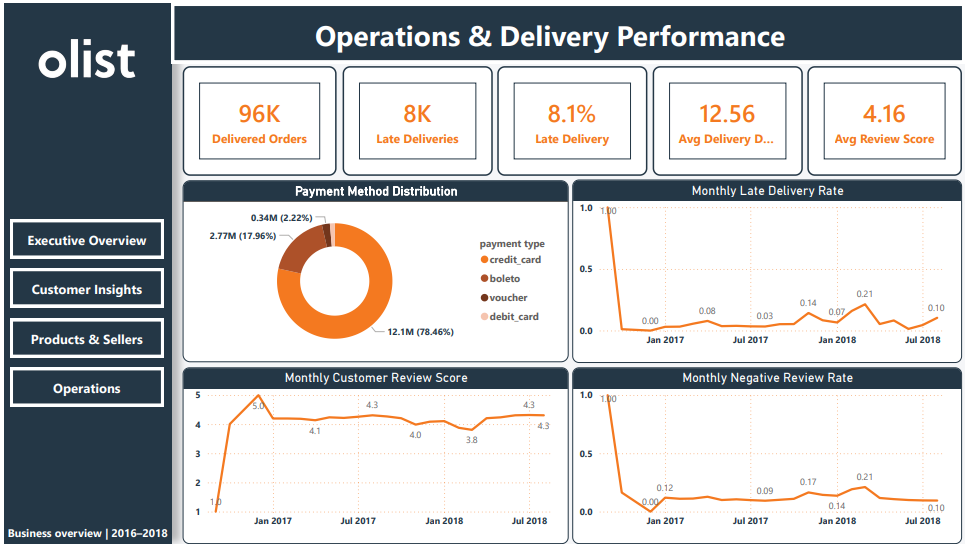

The page's visual inventory and layout, read from the dashboard file:
{"tool":"powerbi","page":{"name":"Operations & Delivery Performance","canvas":[1280,720],"ordinal":3},"visuals":[{"type":"shape","box":[0,0,223.3,720],"z":0},{"type":"shape","box":[223.3,0,1056.7,80],"z":1000},{"type":"image","box":[23.3,0,175,146.7],"z":2000},{"type":"textbox","box":[175,11.7,1105,68.3],"z":3000},{"type":"textbox","box":[0,689.8,237.3,30.8],"z":4000},{"type":"actionButton","box":[8.3,288.3,205,51.7],"z":5000},{"type":"actionButton","box":[8.3,353.3,205,51.7],"z":6000},{"type":"actionButton","box":[8.3,420,205,51.7],"z":7000},{"type":"actionButton","box":[8.3,485,205,51.7],"z":8000},{"type":"cardVisual","fields":{"Data":["Measure Table.Total Delivered Orders"]},"box":[237.6,83.5,205.9,146.9],"z":9000},{"type":"cardVisual","fields":{"Data":["Measure Table.Total Late Deliveries"]},"box":[450.7,83.5,200.1,146.9],"z":10000},{"type":"cardVisual","fields":{"Data":["Measure Table.Average Delivery Days"]},"box":[863.9,83.5,200.1,146.9],"z":11000},{"type":"cardVisual","fields":{"Data":["Measure Table.Late Delivery Rate"]},"box":[656.6,83.5,200.1,146.9],"z":12000},{"type":"cardVisual","fields":{"Data":["Measure Table.Average Review Score"]},"box":[1069.8,83.5,205.9,146.9],"z":13000},{"type":"donutChart","title":"Payment Method Distribution","fields":{"Category":["analytics payment_analytics.payment_type"],"Y":["Sum(analytics payment_analytics.total_payment_value)"]},"box":[237.6,236.1,514,241.9],"z":13001},{"type":"lineChart","title":"Monthly Late Delivery Rate","fields":{"Category":["analytics delivery_review_analytics.sales_month"],"Y":["Measure Table.Monthly Late Delivery Rate"]},"box":[757.3,234.7,518.3,244.8],"z":13002},{"type":"lineChart","title":"Monthly Customer Review Score","fields":{"Category":["analytics delivery_review_analytics.sales_month"],"Y":["Measure Table.Monthly Average Review Score"]},"box":[237.6,485.2,514,234.7],"z":13003},{"type":"lineChart","title":"Monthly Negative Review Rate","fields":{"Category":["analytics delivery_review_analytics.sales_month"],"Y":["Measure Table.Monthly Negative Review Rate"]},"box":[757.3,485.2,518.3,234.7],"z":13004}]}

Visuals, with their boxes in screenshot pixels (x1, y1, x2, y2), scaled from the page's 1280x720 canvas onto the 968x550 screenshot:
shape: l=0, t=0, r=169, b=549
shape: l=169, t=0, r=967, b=61
image: l=18, t=0, r=150, b=112
textbox: l=132, t=9, r=967, b=61
textbox: l=0, t=527, r=179, b=549
actionButton: l=6, t=220, r=161, b=260
actionButton: l=6, t=270, r=161, b=309
actionButton: l=6, t=321, r=161, b=360
actionButton: l=6, t=370, r=161, b=410
cardVisual - Measure Table.Total Delivered Orders: l=180, t=64, r=335, b=176
cardVisual - Measure Table.Total Late Deliveries: l=341, t=64, r=492, b=176
cardVisual - Measure Table.Average Delivery Days: l=653, t=64, r=805, b=176
cardVisual - Measure Table.Late Delivery Rate: l=497, t=64, r=648, b=176
cardVisual - Measure Table.Average Review Score: l=809, t=64, r=965, b=176
"Payment Method Distribution" donutChart: l=180, t=180, r=568, b=365
"Monthly Late Delivery Rate" lineChart: l=573, t=179, r=965, b=366
"Monthly Customer Review Score" lineChart: l=180, t=371, r=568, b=549
"Monthly Negative Review Rate" lineChart: l=573, t=371, r=965, b=549
